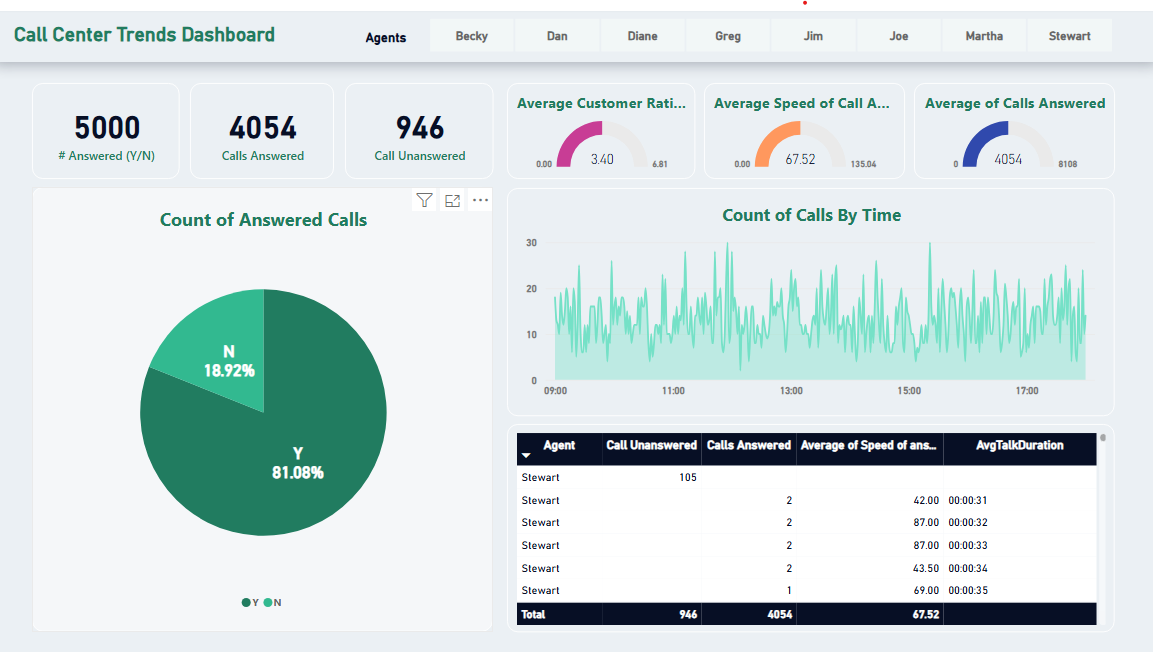

The page's visual inventory and layout, read from the dashboard file:
{"tool":"powerbi","page":{"name":"Page 1","canvas":[1280,720],"ordinal":0},"visuals":[{"type":"card","fields":{"Values":["Sheet1.Answered (Y/N)"]},"box":[40,82.7,162.7,106.4],"z":0},{"type":"textbox","box":[0,0,1280,60],"z":1000},{"type":"card","fields":{"Values":["Sheet1.Calls Answered"]},"box":[214.5,82.7,159.1,106.4],"z":2000},{"type":"pieChart","title":"Count of Answered Calls","fields":{"Y":["Sheet1.Answered (Y/N)"],"Category":["Sheet1.Answered (Y/N)"]},"box":[40,198.2,509.1,490.9],"z":3000},{"type":"areaChart","title":"Count of Calls By Time","fields":{"Y":["Sheet1.Call Id"],"Category":["Sheet1.Time"]},"box":[564.5,199.1,670.9,251.8],"z":4000},{"type":"tableEx","fields":{"Values":["Sheet1.Agent","Sheet1.Call Unanswered","Sheet1.Calls Answered","Sheet1.Speed of answer in seconds","Sheet1.AvgTalkDuration"]},"box":[564.5,459.1,670.9,230],"z":5000},{"type":"gauge","title":"Average Customer Rating","fields":{"Y":["Sheet1.Satisfaction rating"]},"box":[564.5,82.7,208.2,106.4],"z":6000},{"type":"gauge","title":"Average Speed of Call Answer","fields":{"Y":["Sheet1.Speed of answer in seconds"]},"box":[781.8,82.7,221.8,106.4],"z":7000},{"type":"card","fields":{"Values":["Sheet1.Call Unanswered"]},"box":[385.5,82.7,163.6,106.4],"z":8000},{"type":"gauge","title":"Average of Calls Answered","fields":{"Y":["Sheet1.Calls Answered"]},"box":[1013.6,82.7,221.8,106.4],"z":9000},{"type":"slicer","title":"Agents","fields":{"Values":["Sheet1.Agent"]},"box":[448.2,0,812.7,60],"z":10000},{"type":"textbox","box":[403.1,17.7,144.7,42],"z":11000}]}

Visuals, with their boxes in screenshot pixels (x1, y1, x2, y2), scaled from the page's 1280x720 canvas onto the 1153x652 screenshot:
card - Sheet1.Answered (Y/N): bbox(36, 75, 183, 171)
textbox: bbox(0, 0, 1152, 54)
card - Sheet1.Calls Answered: bbox(193, 75, 337, 171)
"Count of Answered Calls" pieChart: bbox(36, 179, 495, 624)
"Count of Calls By Time" areaChart: bbox(508, 180, 1113, 408)
tableEx - Sheet1.Agent x Sheet1.Call Unanswered: bbox(508, 416, 1113, 624)
"Average Customer Rating" gauge: bbox(508, 75, 696, 171)
"Average Speed of Call Answer" gauge: bbox(704, 75, 904, 171)
card - Sheet1.Call Unanswered: bbox(347, 75, 495, 171)
"Average of Calls Answered" gauge: bbox(913, 75, 1113, 171)
"Agents" slicer: bbox(404, 0, 1136, 54)
textbox: bbox(363, 16, 493, 54)
